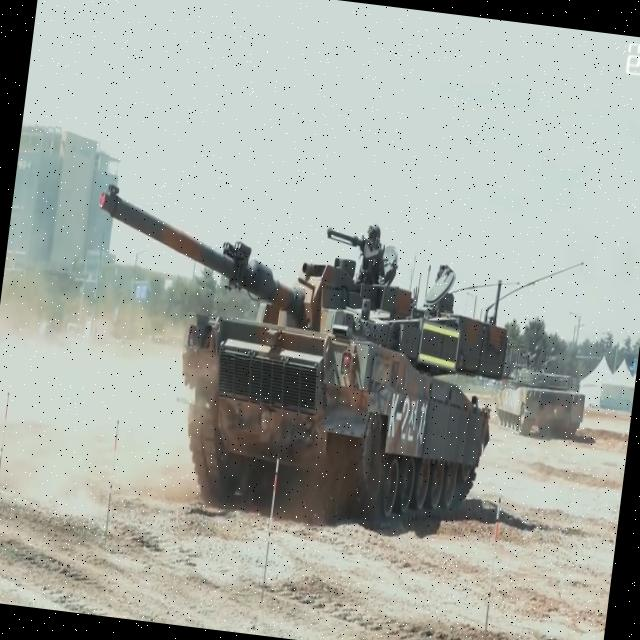korea tank: (64, 180, 538, 540)
